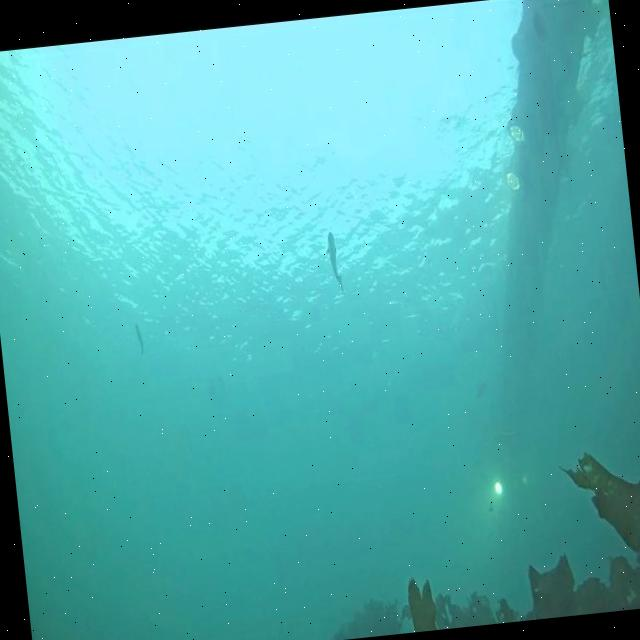fish: (324, 230, 346, 298), (134, 320, 146, 360)
